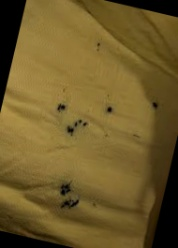ink: (65, 118, 88, 139), (62, 198, 79, 212), (58, 181, 71, 196), (57, 103, 66, 112), (151, 100, 159, 109), (106, 106, 113, 113)
